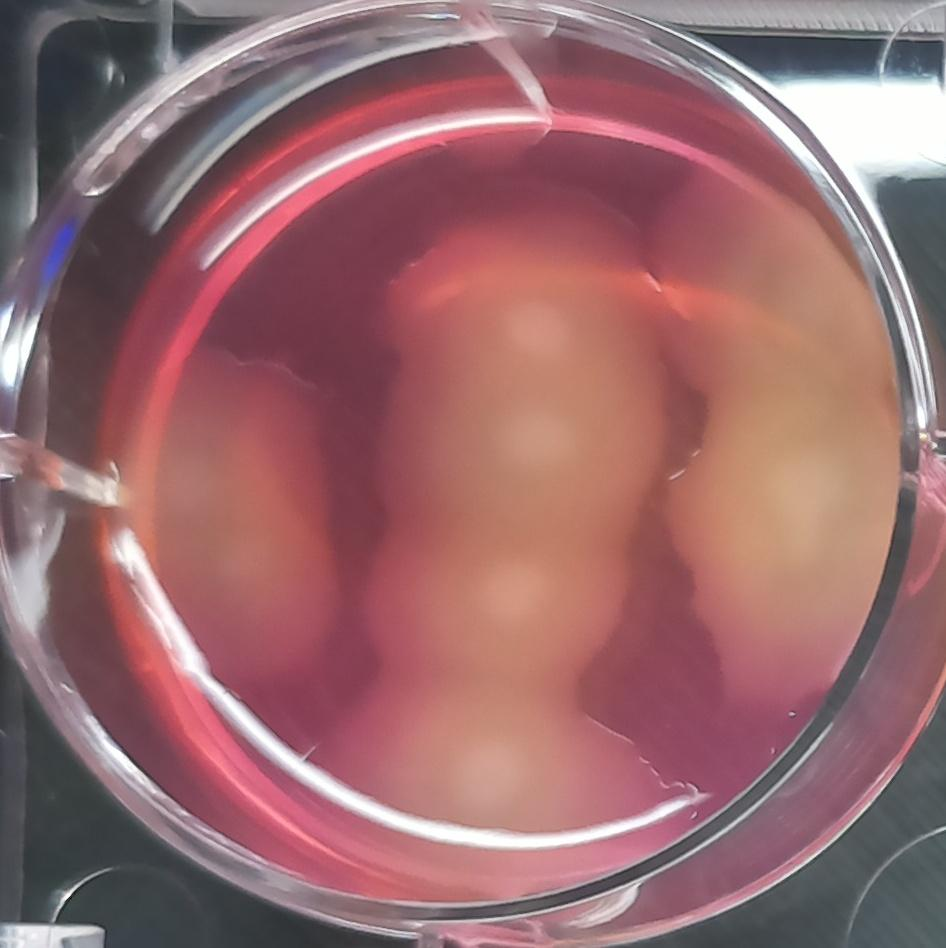valgino: (332, 188, 672, 879), (646, 133, 884, 734), (92, 324, 358, 695)
